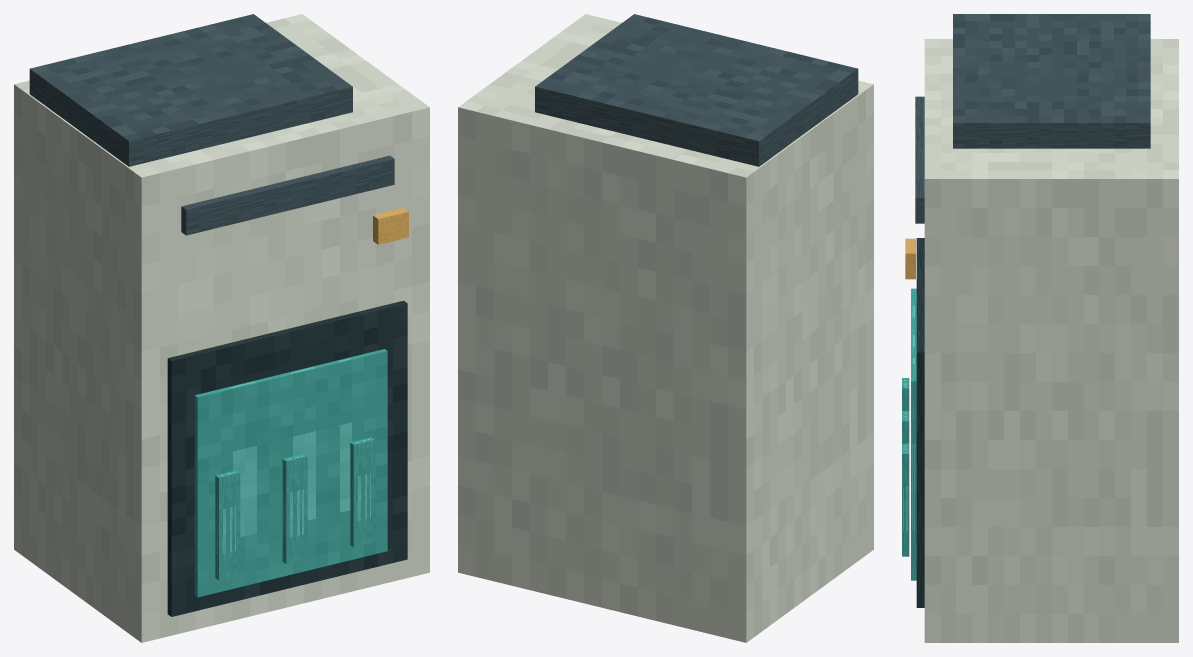
The model's file is sequencer.glb.
3 views of the same model, side by side, from view 1: azimuth 30°, elevation 25°; view 2: azimuth 150°, elevation 25°; view 3: azimuth 270°, elevation 25° (orthographic).
Parts seen in each view (by area): view 1: block-0, block-2, block-5, block-1, block-3, block-7, block-6, block-8, block-4; view 2: block-0, block-5; view 3: block-0, block-5, block-1, block-2, block-3, block-8, block-4.
Part boxes in pixels (<box>): block-0: <box>14,14,429,642</box>; block-2: <box>194,349,387,597</box>; block-5: <box>29,14,352,166</box>; block-1: <box>167,300,407,616</box>; block-3: <box>181,155,394,235</box>; block-7: <box>282,453,307,563</box>; block-6: <box>215,470,240,580</box>; block-8: <box>350,437,375,547</box>; block-4: <box>373,208,408,244</box>; block-0: <box>458,14,873,642</box>; block-5: <box>535,14,858,166</box>; block-0: <box>924,39,1178,642</box>; block-5: <box>953,14,1150,148</box>; block-1: <box>916,238,924,607</box>; block-2: <box>911,288,916,580</box>; block-3: <box>915,96,924,223</box>; block-8: <box>902,443,909,556</box>; block-4: <box>905,238,915,279</box>.
Bounding box in the file's own units: 0.94 × 1.53 × 0.784.
Materials: 5 (5 with a texture image).
